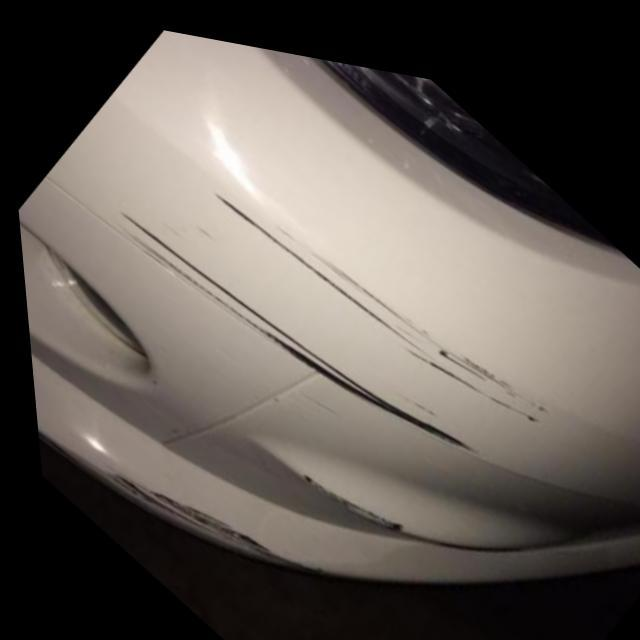crack: (118, 186, 549, 444), (288, 457, 399, 523)
scratch: (30, 423, 310, 561)
